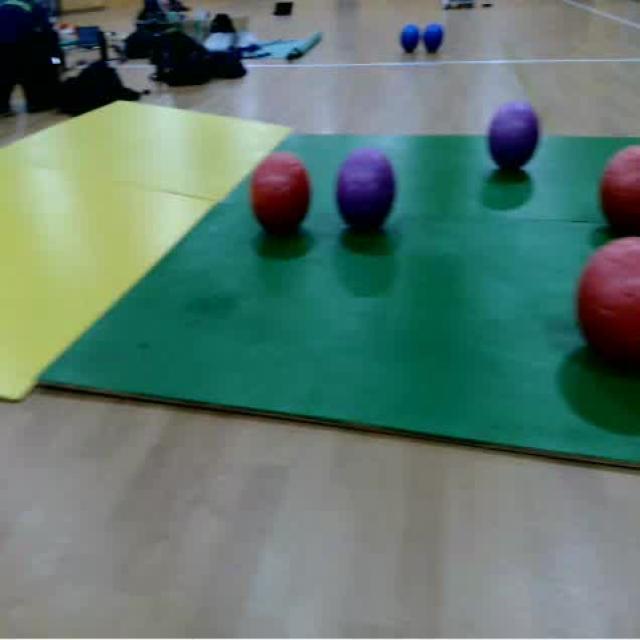blue_ball: (422, 20, 447, 58), (400, 20, 421, 57)
purple_ball: (333, 146, 401, 238), (485, 103, 543, 179)
red_ball: (579, 236, 640, 378), (248, 157, 315, 241), (599, 142, 640, 235)
